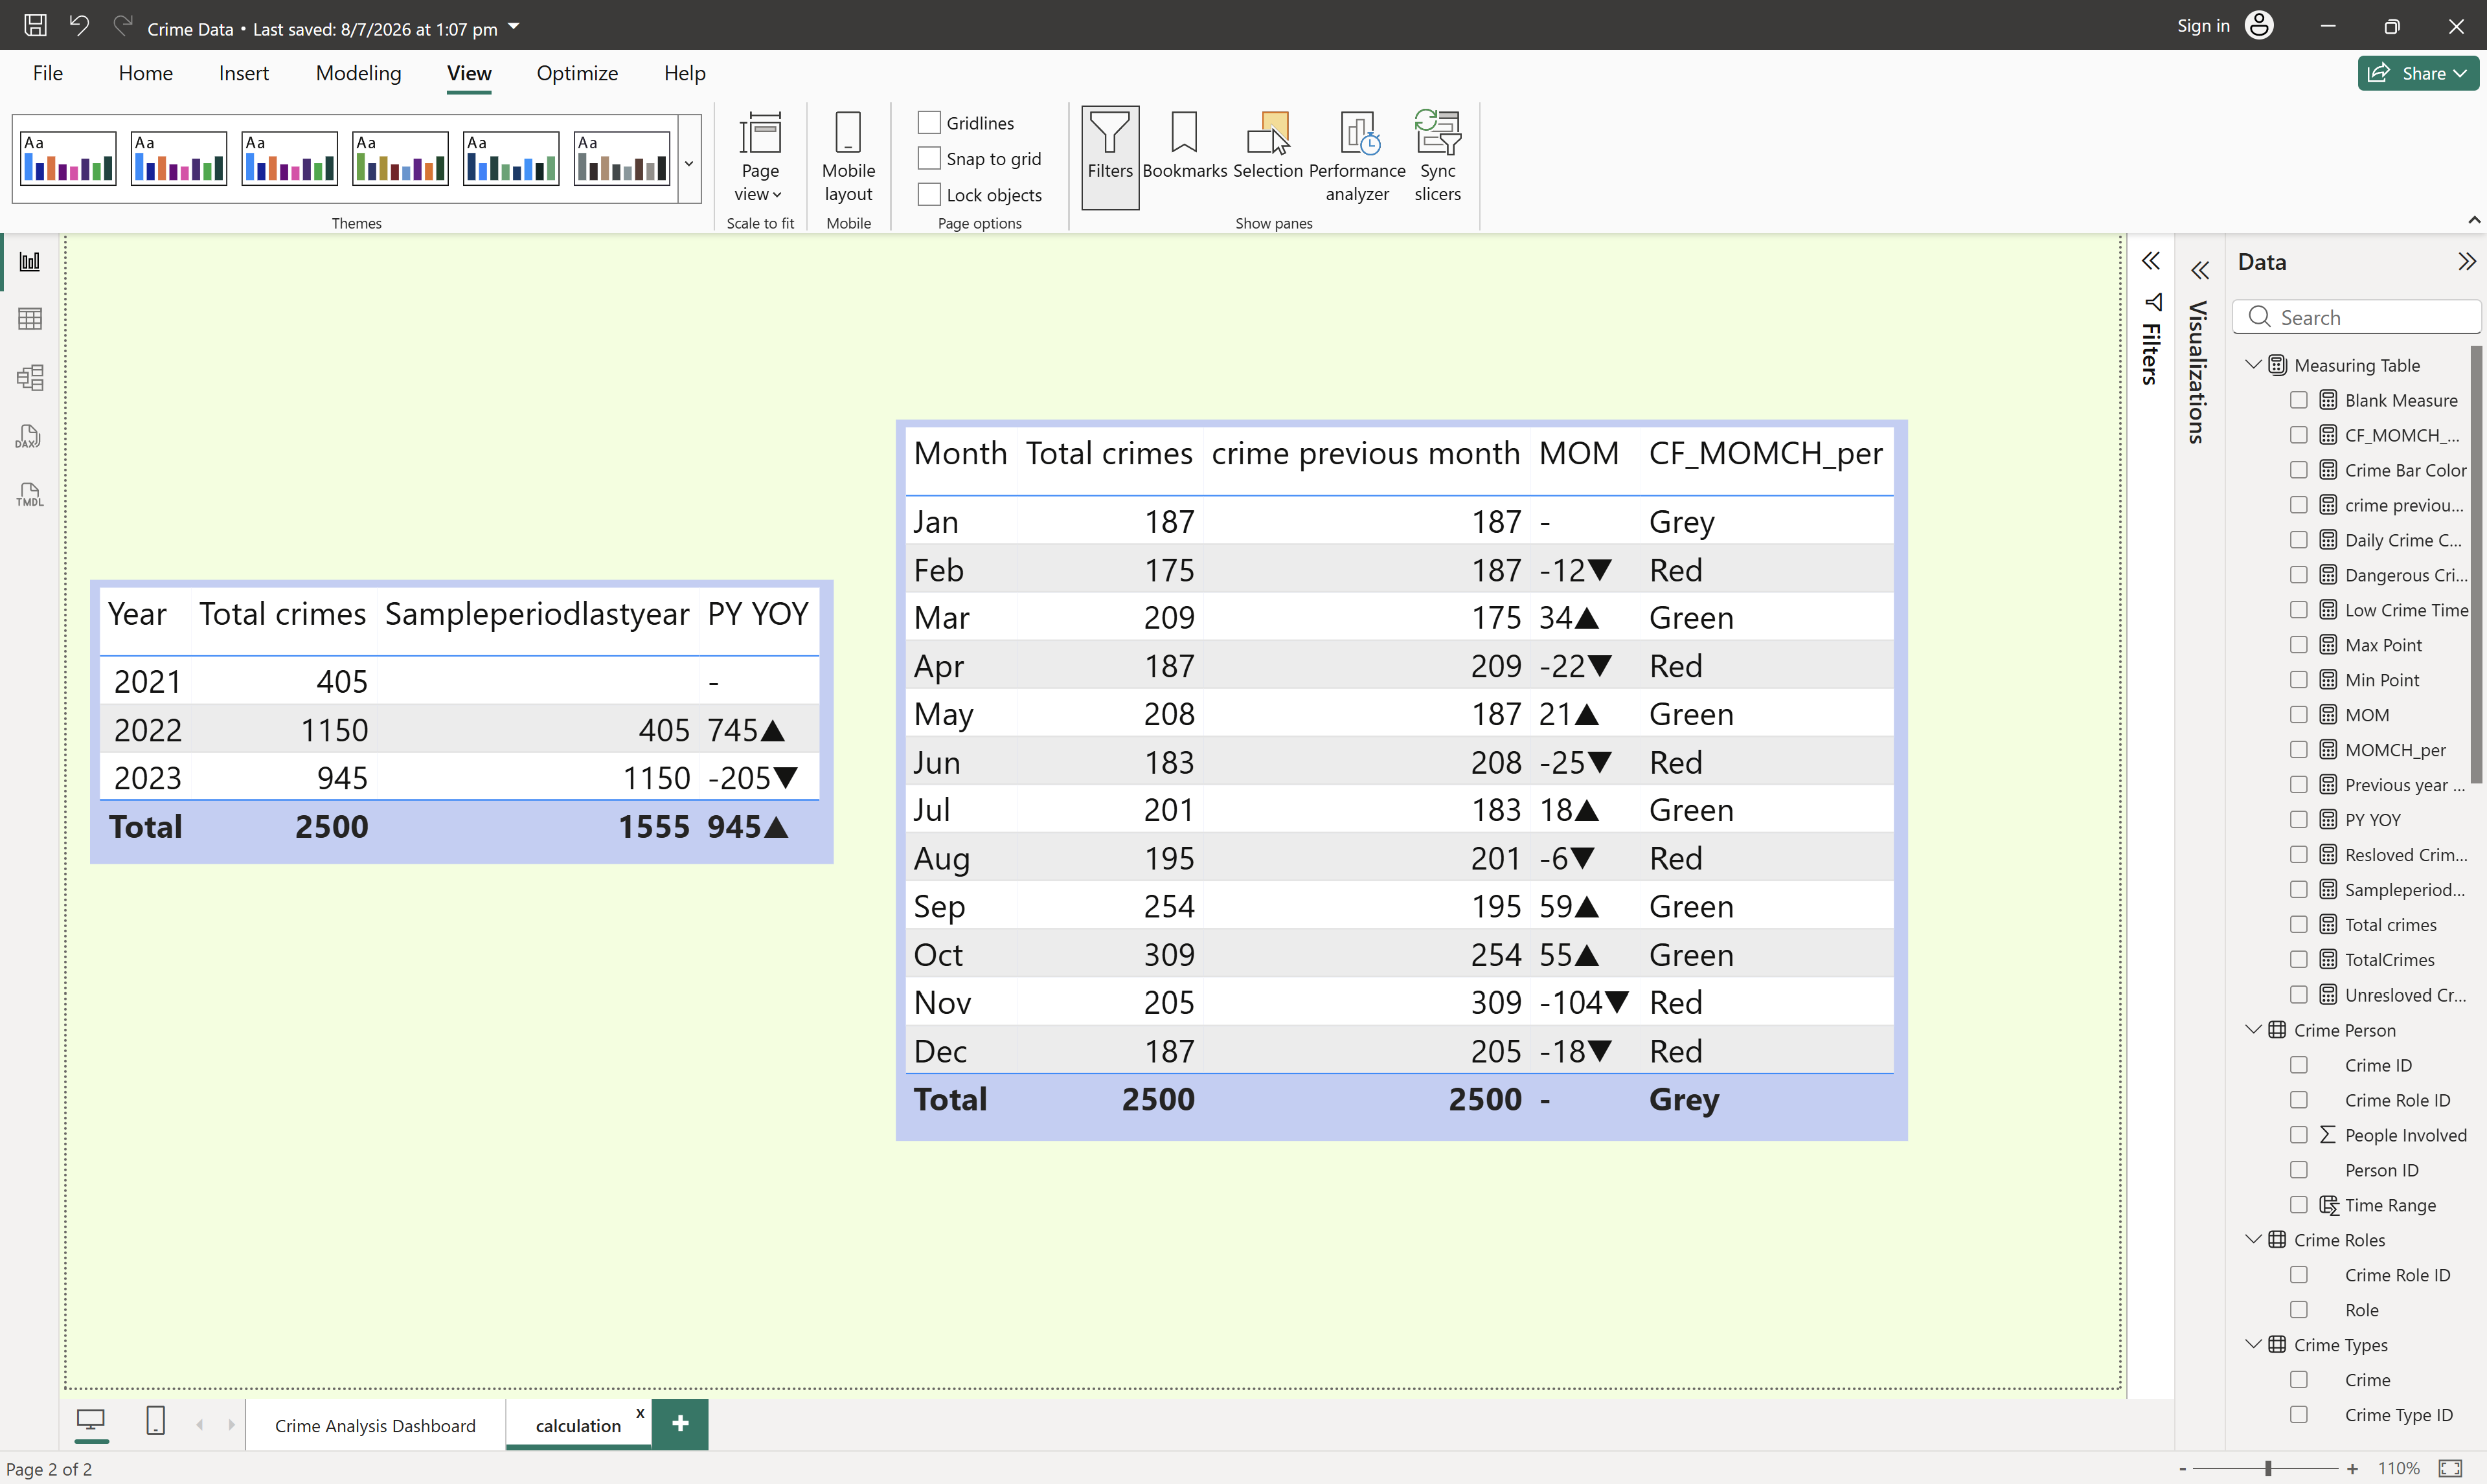

This screenshot's page, from the dashboard's own definition file:
{"tool":"powerbi","page":{"name":"calculation","canvas":[1280,720],"ordinal":1},"visuals":[{"type":"tableEx","fields":{"Values":["Date table.Date.Variation.Date Hierarchy.Year1","Measuring Table.Total crimes","Measuring Table.Sampleperiodlastyear","Measuring Table.PY YOY"]},"box":[14.1,216.4,464.1,177.2],"z":0},{"type":"tableEx","fields":{"Values":["Date table.Month","Measuring Table.Total crimes","Measuring Table.crime previous month","Measuring Table.MOM","Measuring Table.MOMCH_per"]},"box":[517.4,116.8,631.2,450],"z":1000}]}

Visuals, with their boxes on the page's 1280x720 design canvas (x1, y1, x2, y2). These are canvas units, not pixel positions in the 2487x1484 screenshot, which may show the page scaled, cropped or inside an application window:
tableEx - Date table.Date.Variation.Date Hierarchy.Year1 x Measuring Table.Total crimes: crop(14, 216, 478, 394)
tableEx - Date table.Month x Measuring Table.Total crimes: crop(517, 117, 1149, 567)
